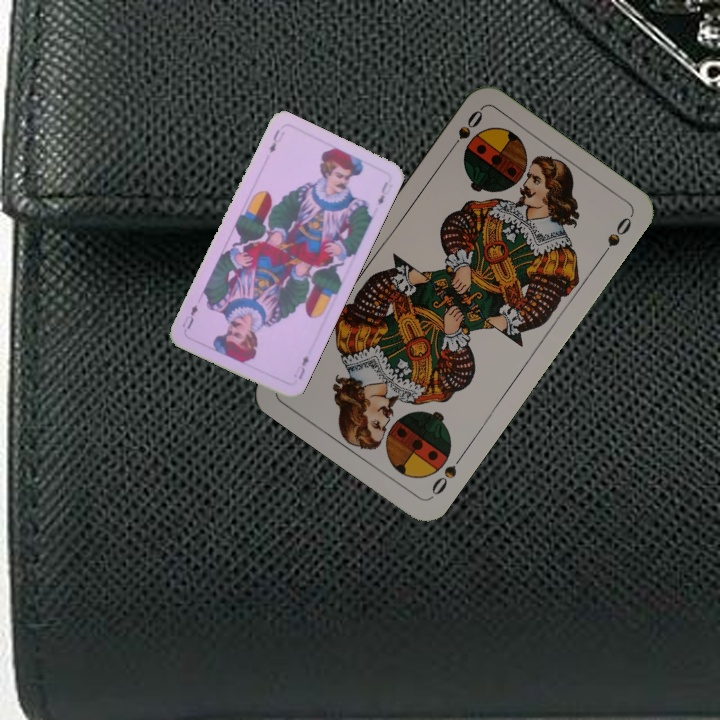EU: (265, 125, 288, 155), (290, 351, 312, 382)
SO: (444, 106, 486, 157), (427, 449, 467, 501)
